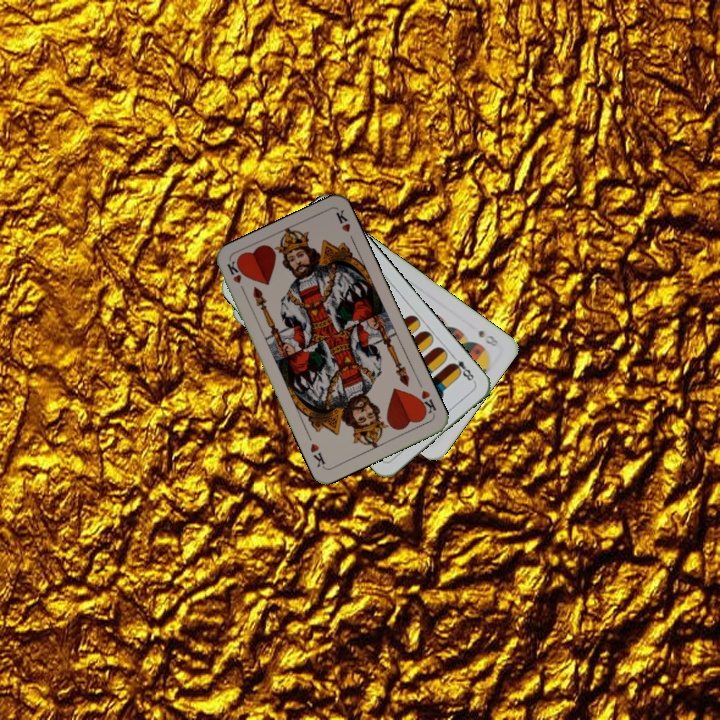E8: (446, 351, 478, 385)
HK: (223, 257, 249, 297), (413, 386, 439, 418)
S8: (474, 326, 502, 349)
